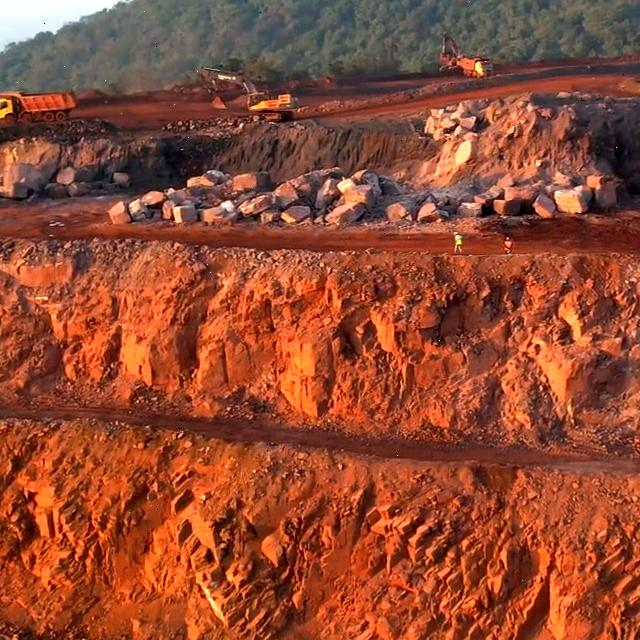Dumper truck: (0, 88, 74, 118)
Excavator: (197, 68, 253, 102), (249, 91, 300, 118)
person: (451, 231, 464, 258), (502, 233, 514, 259)
